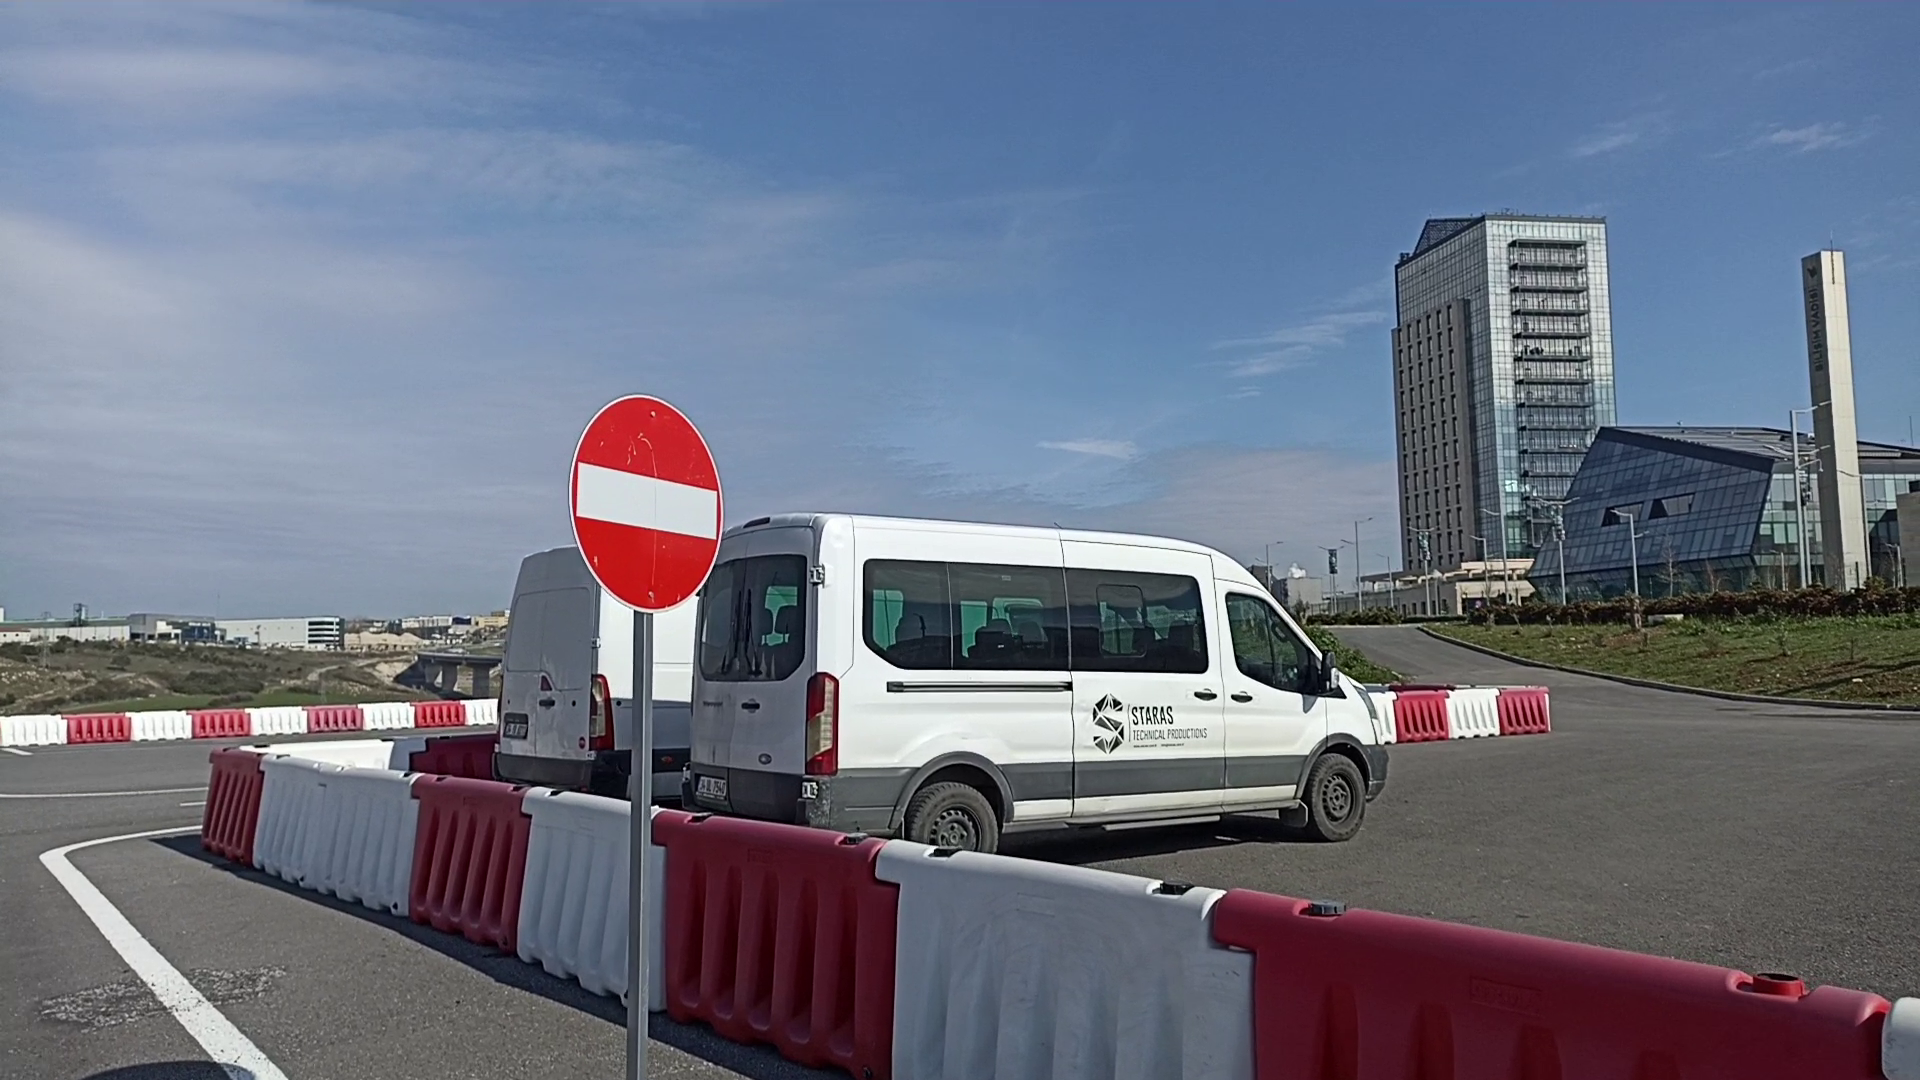noentryway: (564, 389, 727, 616)
